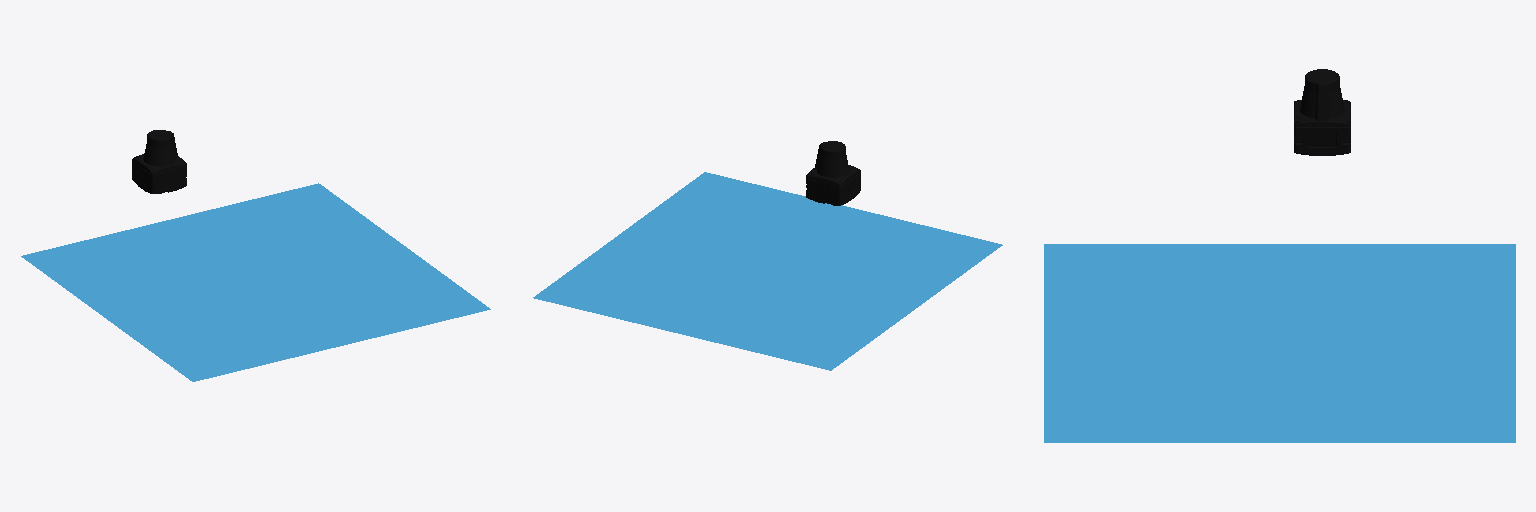
URDF robot description (mas2027_sentry):
<?xml version="1.0" encoding="utf-8"?>
<robot name="mas2027_sentry" xmlns:xacro="http://ros.org/wiki/xacro">

<link name="base_footprint"/>

  <!-- Base Link -->
  <link name="base_link">
    <visual>
      <geometry>
        <box size="0.5 0.5 0"/> 
      </geometry>
      <origin xyz="0 0 0" rpy="0 0 0"/>
    </visual>
    <collision>
      <geometry>
        <box size="0.5 0.5 0"/>
      </geometry>
      <origin xyz="0 0 0" rpy="0 0 0"/>
    </collision>
  </link>

<!-- base_link 必须是 URDF 的根：里程计 small_point_lio 在 /tf 上发布
     odom -> base_link。如果这里让 base_footprint 当父级，robot_state_publisher
     就会在 /tf_static 上再发一条 base_footprint -> base_link，base_link 于是有了
     两个父级。TF2 的树里每个 frame 只能有一个父级，冲突的结果是整棵树裂成
     两棵互不相连的子树（tf2_echo 报 "Tf has two or more unconnected trees"），
     RViz 的 Fixed Frame 设成 odom 时就什么都显示不出来，Nav2 的 costmap 也起不来。
     所以把关系反过来：base_footprint 挂在 base_link 下面，z 取原来的相反数，
     几何关系不变（base_footprint 仍在 base_link 下方 0.1 m 的地面上）。
     base_footprint 目前只被 RViz 的 RobotModel/TF 显示用到，没有功能代码依赖它。 -->
<joint name="base_link_to_base_footprint" type="fixed">
  <parent link="base_link"/>
  <child link="base_footprint"/>
  <origin xyz="0 0 -0.1" rpy="0 0 0"/>
</joint>

  <!-- MID-360 LiDAR Link -->
  <link name="lidar_link">
    <visual>
      <geometry>
        <mesh filename="package://mas2027_robot_description/meshes/mid360.STL"/>
      </geometry>
      <origin xyz="0 0 0" rpy="0 0 0"/>
      <material name="black">
        <color rgba="0.1 0.1 0.1 1"/>
      </material>
    </visual>
    
    <collision>
      <geometry>
        <mesh filename="package://mas2027_robot_description/meshes/mid360.STL"/>
      </geometry>
      <origin xyz="0 0 0" rpy="0 0 0"/>
    </collision>
  </link>

  <!-- MID-360 LiDAR Joint -->
  <joint name="lidar_joint" type="fixed">
    <parent link="base_link"/>
    <child link="lidar_link"/>
    <origin xyz="0.09 0.03 0.11" rpy="0.3572 0 1.5708"/>
  </joint>

  <!-- Lakibeam Link -->
  <link name="lakibeam_frame">
    <visual>
      <geometry>
        <mesh filename="package://mas2027_robot_description/meshes/LakiBeam.STL"/>
      </geometry>
      <origin xyz="0 0 0" rpy="0 0 0"/>
      <material name="black">
        <color rgba="0.1 0.1 0.1 1"/>
      </material>
    </visual>
    
    <collision>
      <geometry>
        <mesh filename="package://mas2027_robot_description/meshes/LakiBeam.STL"/>
      </geometry>
      <origin xyz="0 0 0" rpy="0 0 0"/>
    </collision>
  </link>

  <!-- lakibeam Joint -->
  <joint name="lakibeam_joint" type="fixed">
    <parent link="base_link"/>
    <child link="lakibeam_frame"/>
    <origin xyz="-0.17 0.01 0.17" rpy="0 0 0"/>
  </joint>

  <link name="chassis_link"/>

  <joint name="chassis_joint" type="fixed">
    <origin xyz="0 0 0" rpy="0 0 0"/>
    <parent
        link="base_link" />
      <child
        link="chassis_link" />
        <axis
      xyz="0 0 -1" />
  </joint>

</robot>

--- Render facts (derived) ---
The picture shows the robot from 3 angles, left to right: view 1: azimuth 30°, elevation 25°; view 2: azimuth 150°, elevation 25°; view 3: azimuth 270°, elevation 25°; orthographic projection.
Model mas2027_sentry with 5 links and 4 joints (4 fixed), rooted at base_link, posed every joint at zero.
Links seen in each view (by area): view 1: base_link, lakibeam_frame; view 2: base_link, lakibeam_frame; view 3: base_link, lakibeam_frame.
Boxes of the visible links, x1=… form: base_link: x1=21, y1=183, x2=490, y2=381; lakibeam_frame: x1=132, y1=130, x2=186, y2=193; base_link: x1=533, y1=172, x2=1002, y2=370; lakibeam_frame: x1=806, y1=141, x2=860, y2=205; base_link: x1=1044, y1=244, x2=1515, y2=442; lakibeam_frame: x1=1294, y1=69, x2=1350, y2=155.
Bounding box of the posed robot: 0.5 × 0.5 × 0.2502 m (x, y, z).
1 mesh visuals loaded from 2 distinct referenced files (1 binary STL); not drawn: 1 (reference not matched to a file when rendering).
